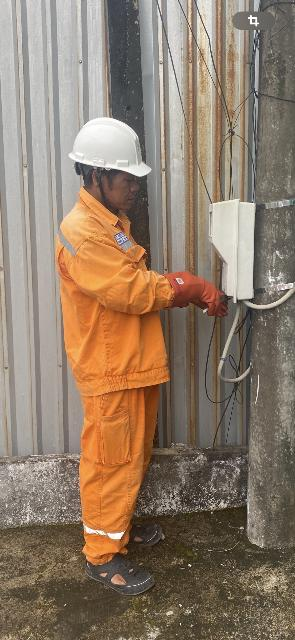gloves: (157, 263, 245, 322)
helmet: (59, 110, 163, 189)
shoes: (76, 544, 161, 600), (91, 503, 167, 546)
